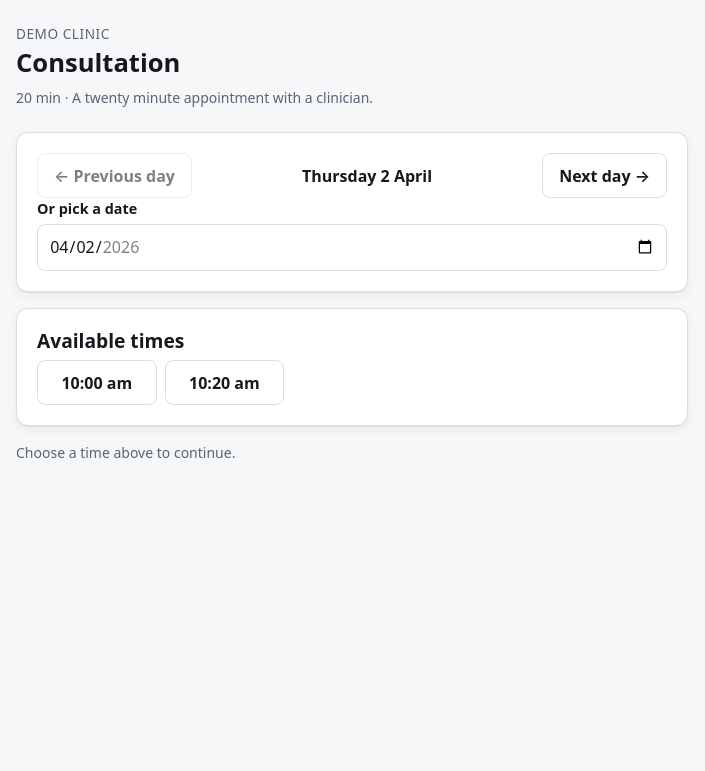
Test: BookPage › shows the server's own message for a field the customer must fix
This screenshot has width=705, height=771.
Click the button "10:00 am": (97, 383) [37, 360, 157, 405]
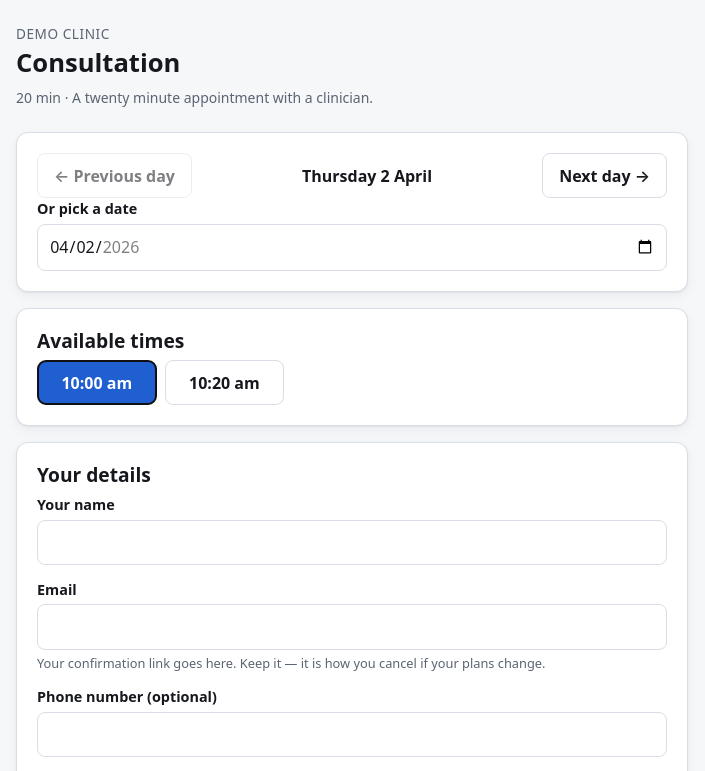
In the field labelled "Your name": (352, 542) [37, 520, 667, 565], type "Ada"
(page scrolled)
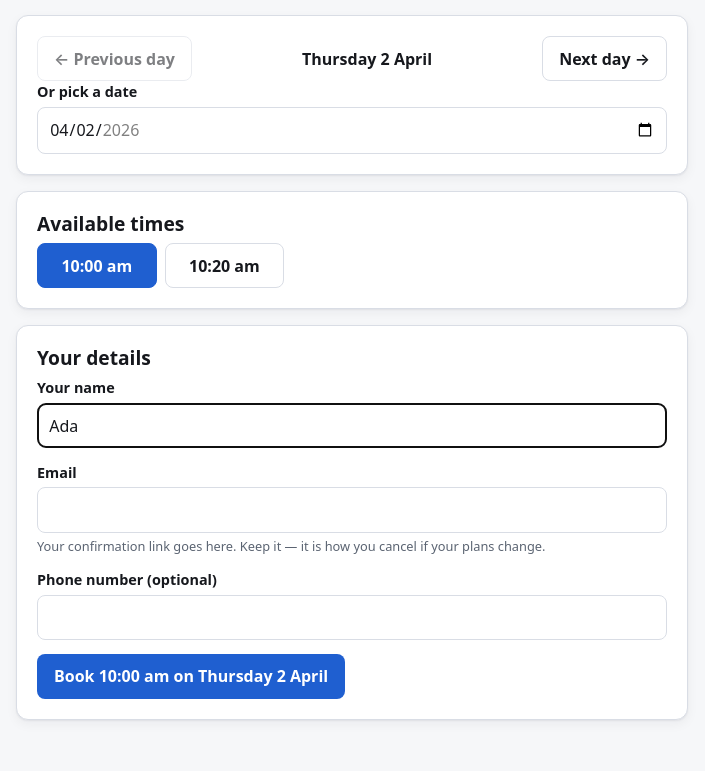
Click the button "Book 10:00 am on Thursday 2 April": (191, 676) [37, 654, 345, 699]
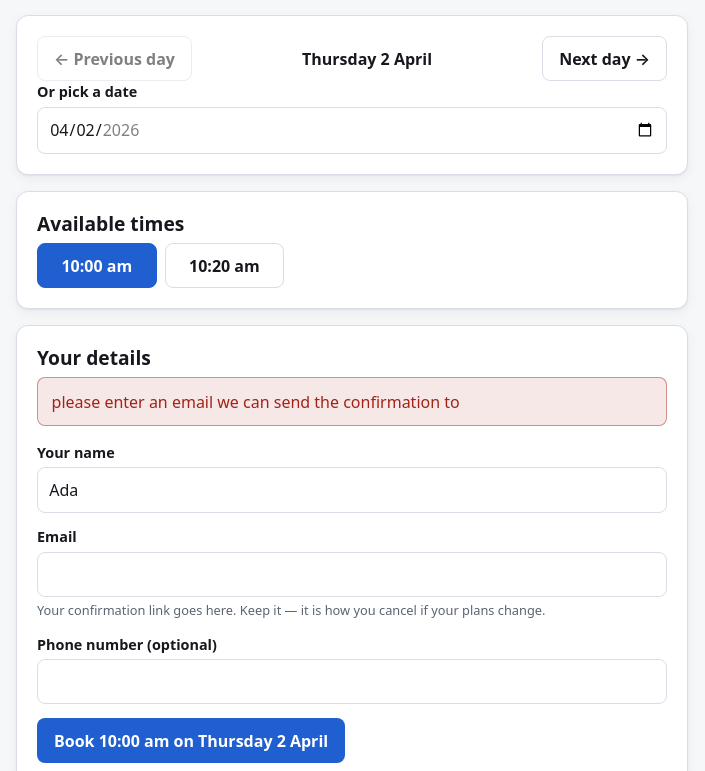
Expected: the message shows "send the confirmation to", [52, 390, 460, 412]
